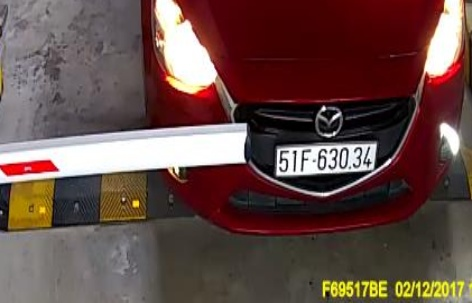plate: (273, 141, 381, 178)
